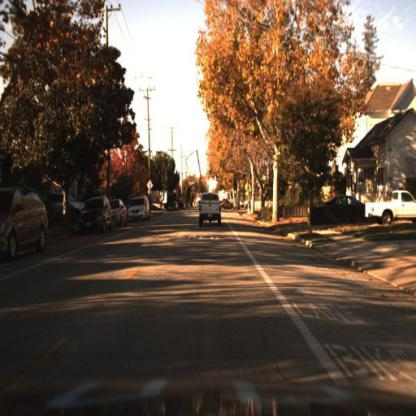car: (1, 185, 51, 266), (71, 193, 115, 239), (366, 190, 415, 226), (314, 192, 367, 224), (77, 194, 113, 234), (47, 191, 87, 218), (50, 190, 84, 219), (125, 193, 152, 227), (108, 197, 132, 233), (198, 189, 222, 225), (325, 193, 364, 214), (127, 194, 151, 226), (112, 197, 131, 233)
